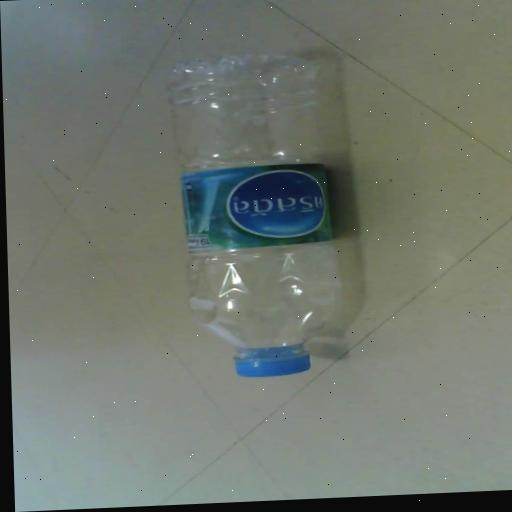bottle: (153, 31, 378, 421)
